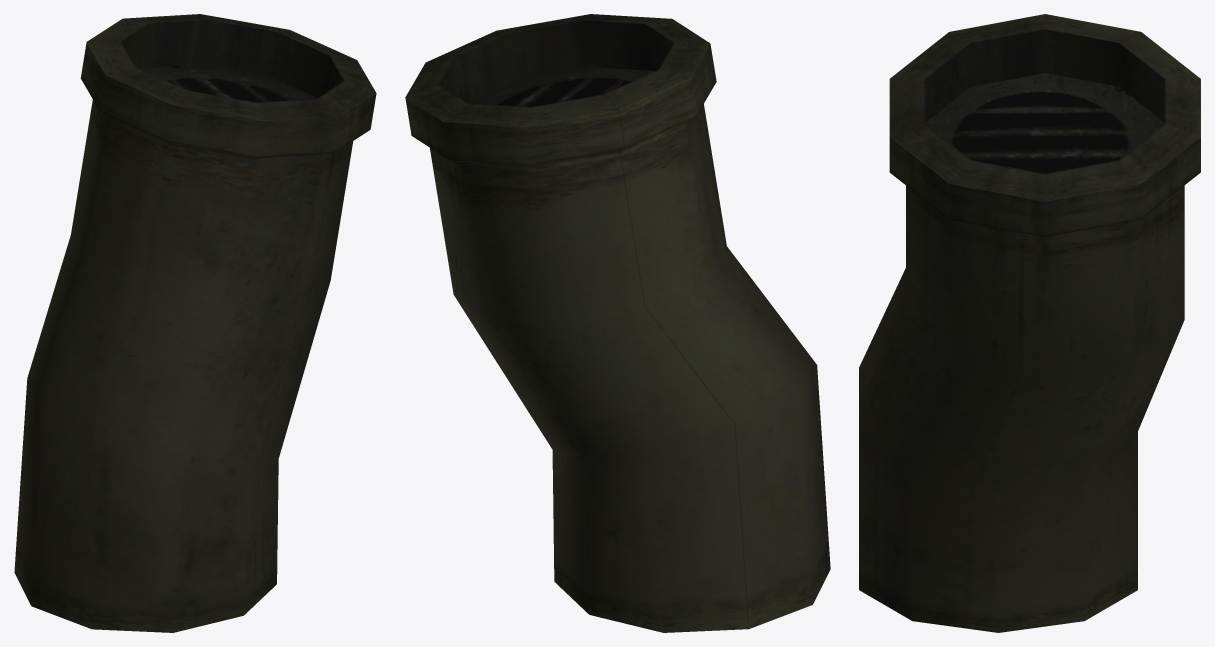
The model's file is BrokenPipe1.DAE.
The picture shows the model from 3 angles, left to right: view 1: azimuth 30°, elevation 25°; view 2: azimuth 150°, elevation 25°; view 3: azimuth 270°, elevation 25°; orthographic projection. The views are drawn at different scales.
Parts seen in each view (by area): view 1: Cylinder001; view 2: Cylinder001; view 3: Cylinder001.
Part boxes in pixels (box(x1,y1,x2,y2)): Cylinder001: box(14, 14, 376, 632); Cylinder001: box(405, 14, 830, 632); Cylinder001: box(859, 14, 1200, 632).
Size of the model in its own units: 1.03 by 0.7922 by 1.4.
